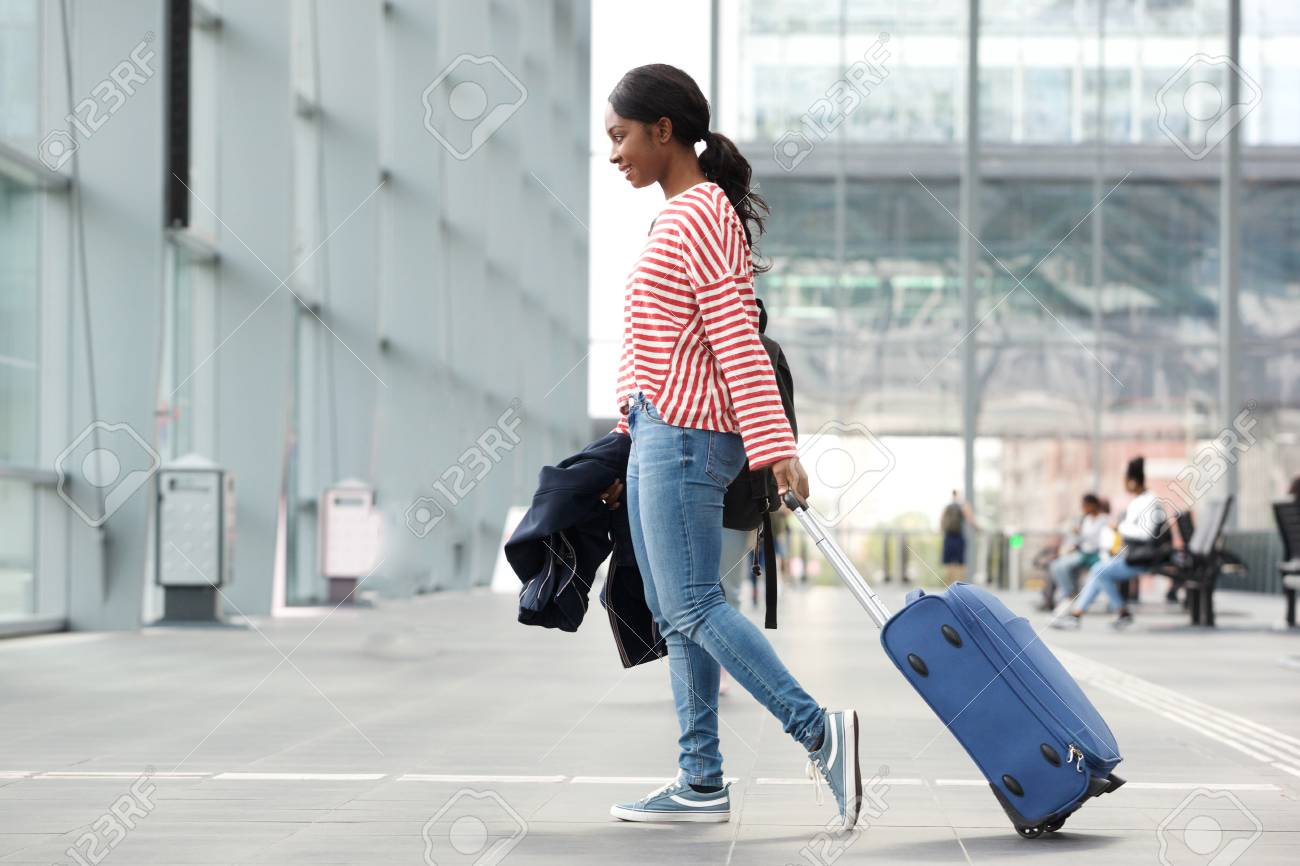luggage: (775, 476, 1143, 847)
people: (595, 61, 884, 847)
